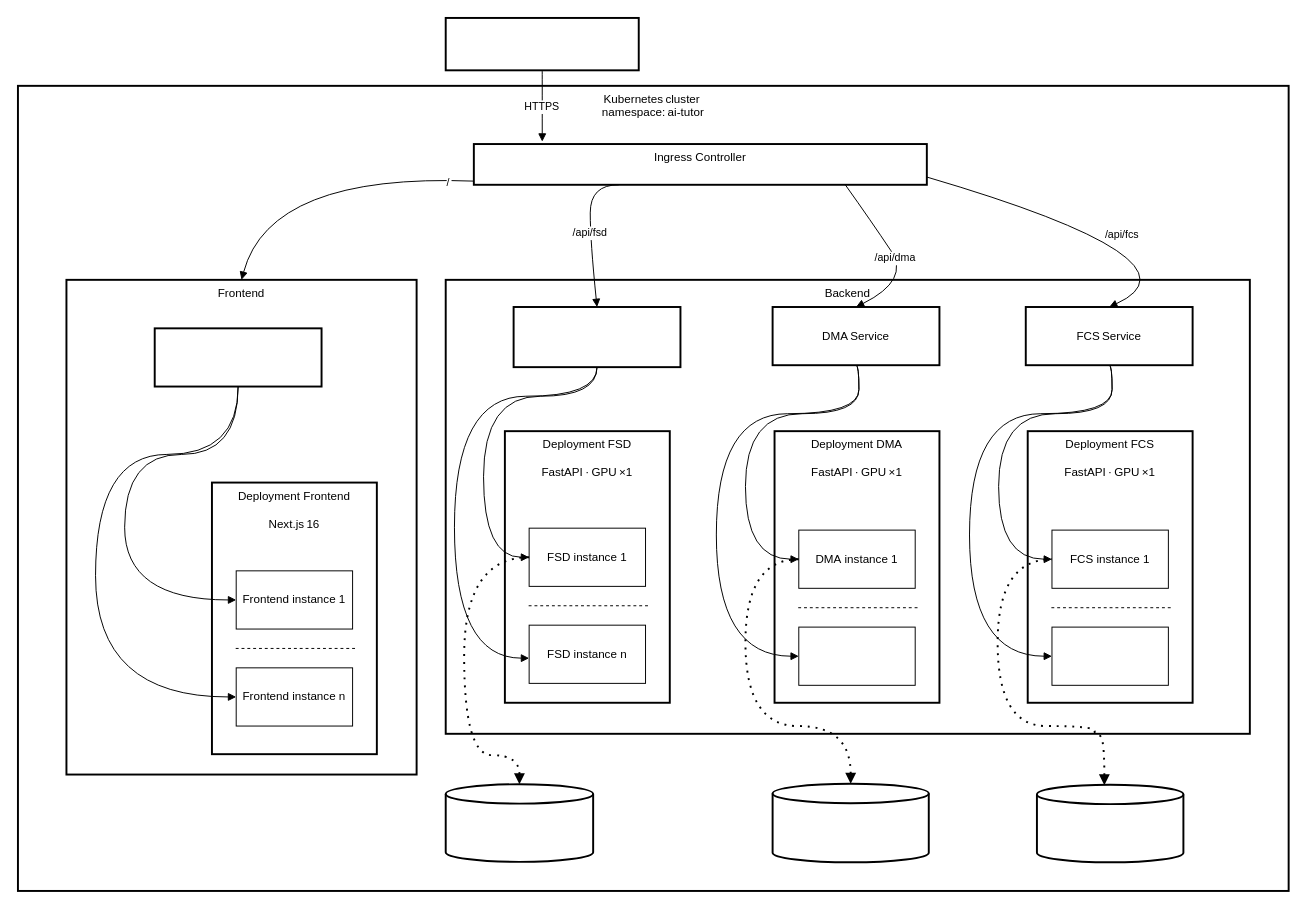
Image size: 1306x908. Some labels were removed from this diagram. Each missing label, with the centre of its shape:
"ChromaDB rag/dma/" belongs at point (850, 822).
"ChromaDB rag/fcs/" belongs at point (1109, 823).
"ChromaDB rag/fsd/" belongs at point (519, 822).
"DMA instance n" belongs at point (856, 655).
"FCS instance n" belongs at point (1109, 655).
"Frontend Service" belongs at point (237, 357).
"FSD Service" belongs at point (596, 337).
"🖥️ Student Browser" belongs at point (541, 43).
